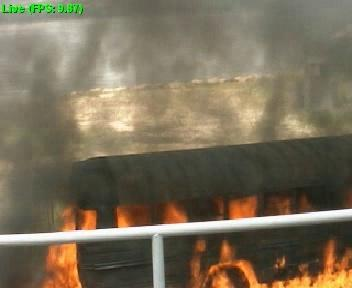fire: (195, 233, 352, 287), (45, 232, 76, 288)
smoke: (17, 60, 65, 222)
